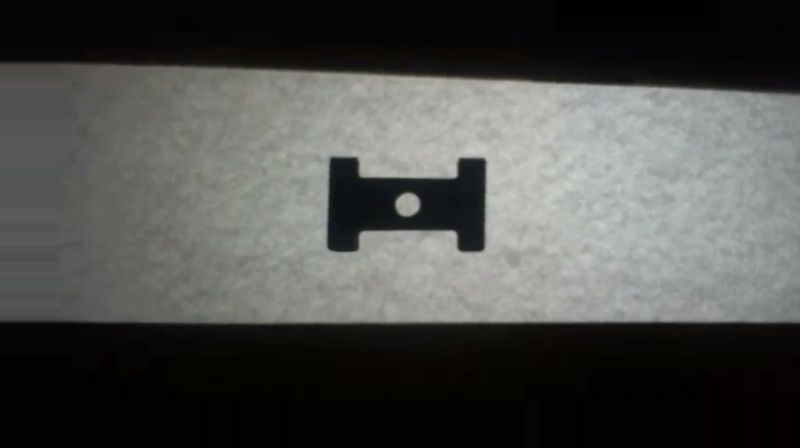O002: (322, 153, 491, 255)
